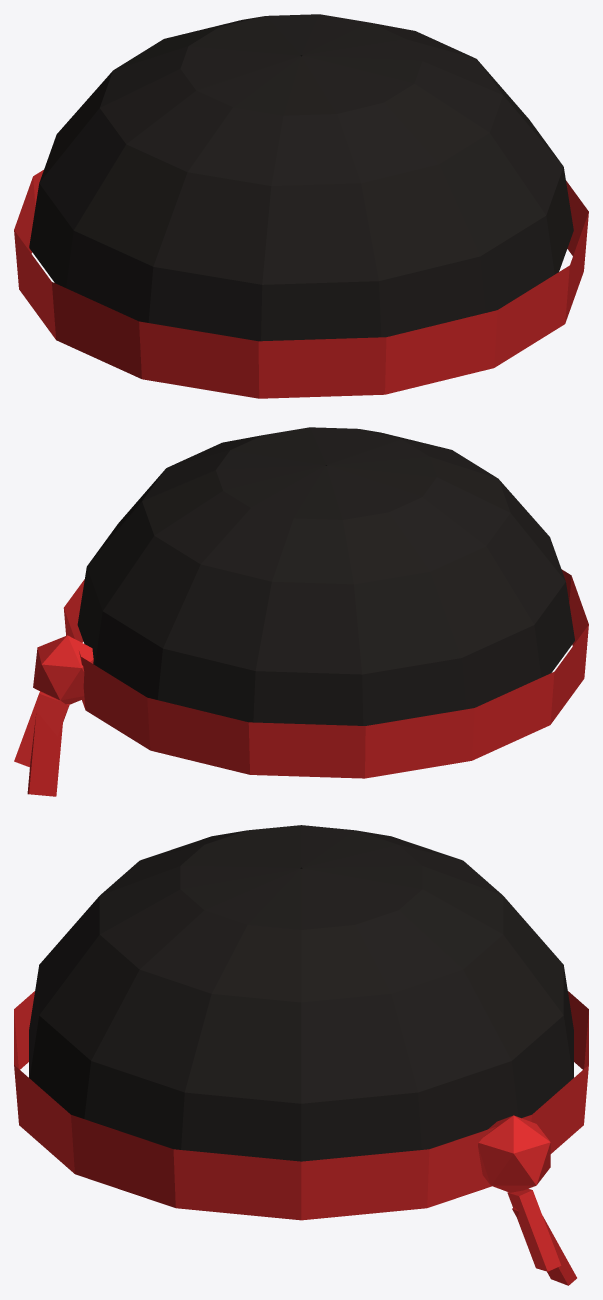
The model's file is hat_12_bandana_pirate.glb.
The picture shows the model from 3 angles, top to bottom: view 1: azimuth 30°, elevation 25°; view 2: azimuth 150°, elevation 25°; view 3: azimuth 270°, elevation 25°; orthographic projection. The views are drawn at different scales.
Parts seen in each view (by area): view 1: Hat12_Cap, Hat12_Headband; view 2: Hat12_Cap, Hat12_Headband, Hat12_Knot, Hat12_Tail2, Hat12_Tail1; view 3: Hat12_Cap, Hat12_Headband, Hat12_Knot, Hat12_Tail1, Hat12_Tail2.
Boxes of the visible parts, x1,y1,x2,y2 form: Hat12_Cap: (29,14,573,341); Hat12_Headband: (14,170,588,398); Hat12_Cap: (77,427,574,725); Hat12_Headband: (63,569,588,778); Hat12_Knot: (33,635,93,704); Hat12_Tail2: (27,711,62,796); Hat12_Tail1: (14,691,69,767); Hat12_Cap: (29,825,573,1161); Hat12_Headband: (14,991,588,1220); Hat12_Knot: (478,1115,550,1192); Hat12_Tail1: (507,1188,561,1271); Hat12_Tail2: (512,1207,576,1285).
Size of the model in its own units: 0.57 by 0.345 by 0.5557.
